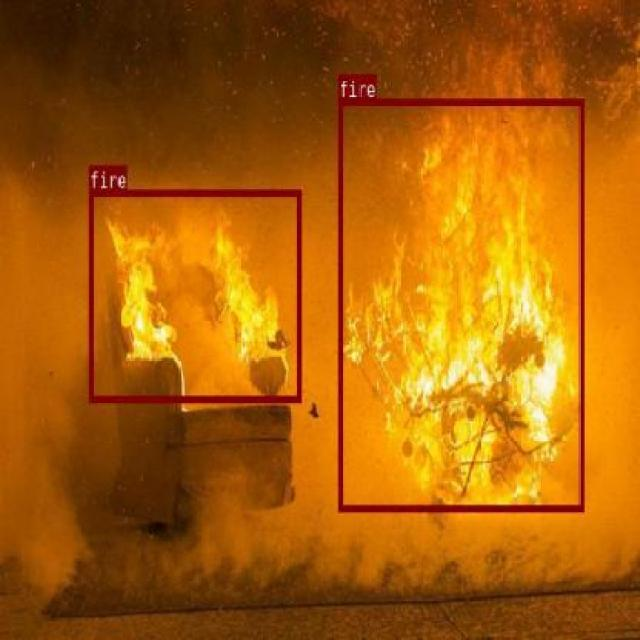fire: (338, 98, 584, 510), (88, 189, 301, 400)
